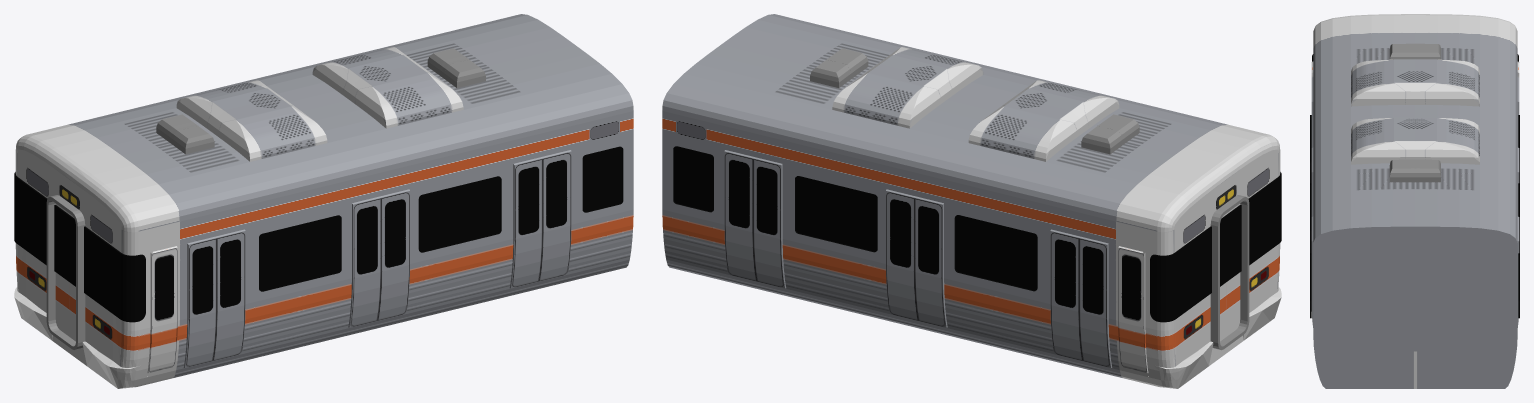
The picture shows the model from 3 angles, left to right: view 1: azimuth 30°, elevation 25°; view 2: azimuth 150°, elevation 25°; view 3: azimuth 270°, elevation 25°; orthographic projection. The views are drawn at different scales.
Parts seen in each view (by area): view 1: Body, FrontWindow, Door_3.002, Door_3, Door_3.001, Top_a_2.001, Top_a_2, Window_2, Window_1, Door_3.003, FrontDoor, Window_Mini_2 (+2 smaller); view 2: Body, FrontWindow, Door_3.002, Door_3, Door_3.001, Top_a_2.001, Top_a_2, Window_1, Window_2, Door_3.003, FrontDoor, Window_Mini_2 (+2 smaller); view 3: Body, Top_a_2, Top_a_2.001, Top_b_2, Top_b_1, Door_3, Door_3.002, Door_3.001, Window_Mini_2, Window_2, Window_1.
Boxes of the visible parts, x1,y1,x2,y2 form: Body: [14, 14, 633, 388]; FrontWindow: [14, 172, 145, 322]; Door_3.002: [183, 229, 245, 367]; Door_3: [509, 150, 571, 288]; Door_3.001: [348, 189, 409, 327]; Top_a_2.001: [312, 47, 463, 128]; Top_a_2: [176, 80, 327, 161]; Window_2: [418, 176, 501, 252]; Window_1: [259, 215, 341, 291]; Door_3.003: [147, 246, 177, 376]; FrontDoor: [46, 195, 85, 350]; Window_Mini_2: [582, 146, 623, 212]; Body: [662, 14, 1281, 388]; FrontWindow: [1150, 172, 1281, 322]; Door_3.002: [1050, 229, 1112, 367]; Door_3: [724, 150, 786, 288]; Door_3.001: [886, 189, 947, 327]; Top_a_2.001: [832, 47, 983, 128]; Top_a_2: [968, 80, 1119, 161]; Window_1: [954, 215, 1037, 291]; Window_2: [795, 176, 877, 252]; Door_3.003: [1118, 246, 1148, 376]; FrontDoor: [1210, 195, 1249, 350]; Window_Mini_2: [673, 146, 713, 212]; Body: [1313, 14, 1517, 388]; Top_a_2: [1351, 59, 1479, 106]; Top_a_2.001: [1351, 117, 1479, 164]; Top_b_2: [1389, 159, 1440, 182]; Top_b_1: [1389, 43, 1440, 59]; Door_3: [1311, 216, 1519, 327]; Door_3.002: [1311, 77, 1519, 147]; Door_3.001: [1311, 147, 1519, 216]; Window_Mini_2: [1310, 253, 1519, 318]; Window_2: [1310, 183, 1519, 253]; Window_1: [1310, 115, 1519, 183].
Bounding box in the file's own units: 820 × 776 × 2032.
